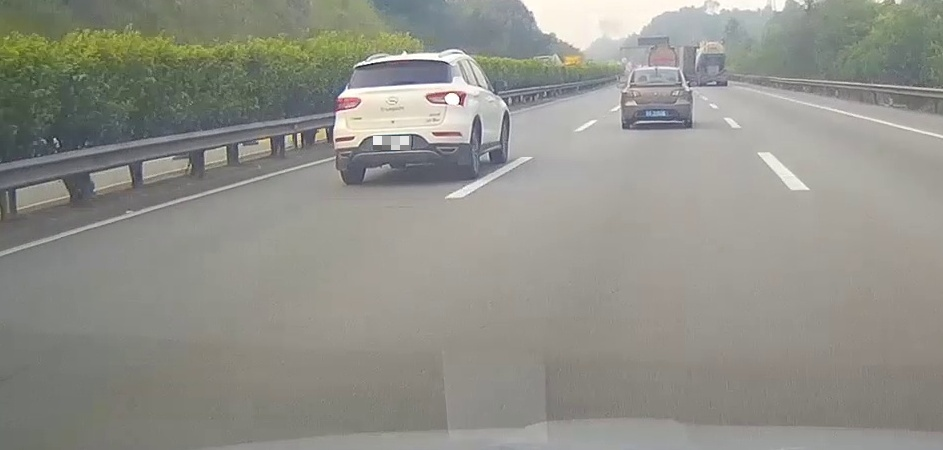L_light: (333, 97, 361, 112), (624, 90, 641, 97)
R_light: (426, 90, 466, 107), (671, 89, 687, 96)
T_light: (391, 60, 409, 63), (653, 69, 661, 71)
day-no: (621, 67, 693, 129)
day-right: (332, 48, 469, 184)
plate_1: (373, 136, 411, 150)
